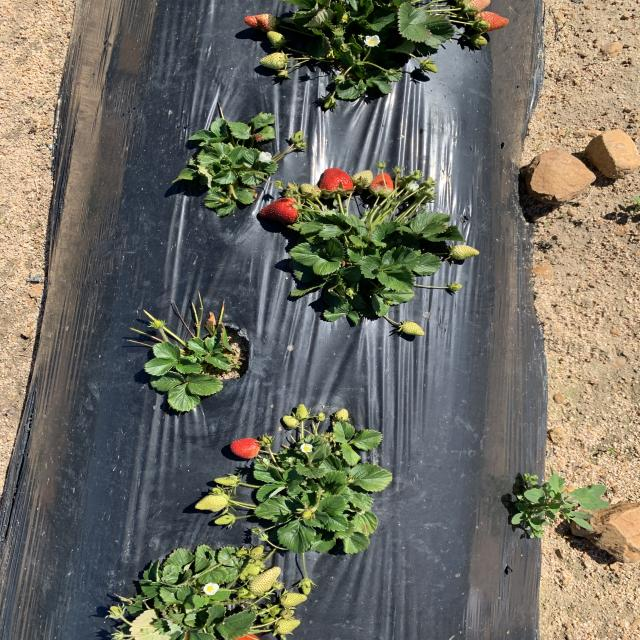unripe: (251, 197, 309, 224), (320, 166, 353, 198), (227, 437, 262, 458), (372, 172, 393, 195), (232, 629, 268, 640)
